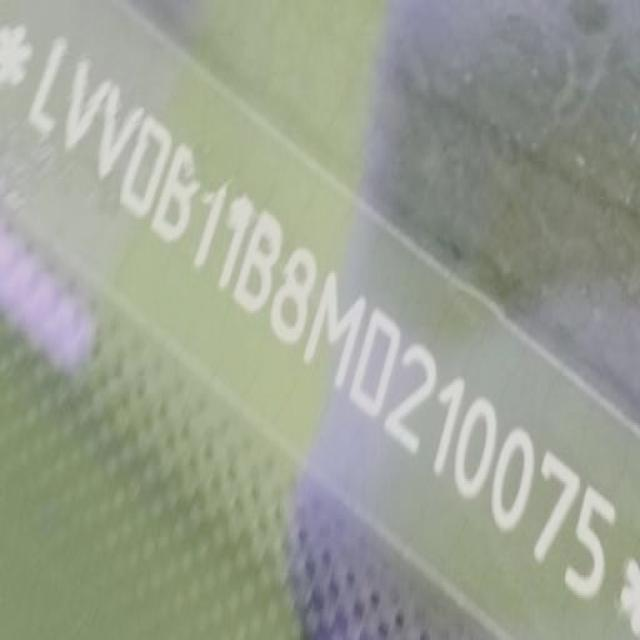0: (481, 407, 546, 545), (445, 375, 505, 511)
1: (181, 157, 236, 280), (421, 365, 470, 484), (210, 177, 258, 294)
2: (380, 329, 447, 460)
5: (558, 475, 626, 615)
7: (521, 442, 588, 581)
8: (265, 227, 331, 359)
B: (229, 195, 294, 323), (148, 129, 212, 254)
D: (347, 291, 404, 431), (118, 101, 179, 227)
L: (20, 25, 77, 141)
M: (296, 258, 371, 390)
V: (53, 45, 114, 172), (86, 76, 148, 196)
